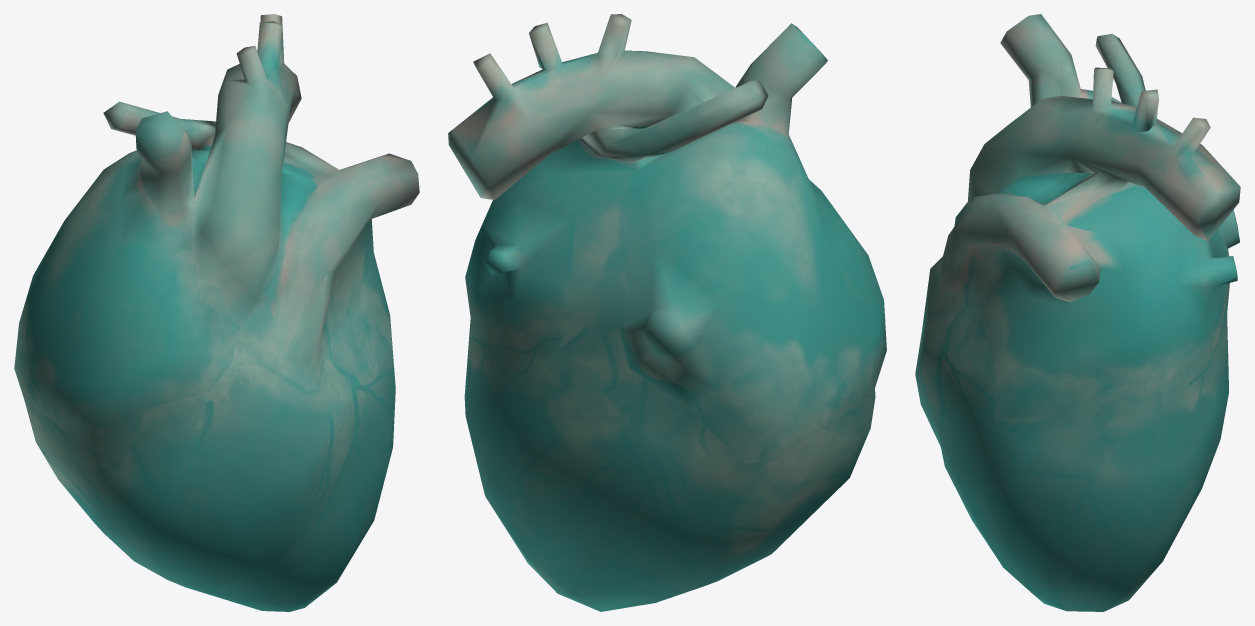
The model's file is TeleportCrystal and Heart.fbx.
3 renders of one model, left to right at view 1: azimuth 30°, elevation 25°; view 2: azimuth 150°, elevation 25°; view 3: azimuth 270°, elevation 25°, orthographic. The views are drawn at different scales.
Visible parts, largest first — view 1: hart:ZBrush_defualt_group; view 2: hart:ZBrush_defualt_group; view 3: hart:ZBrush_defualt_group.
Boxes of the visible parts, <box> form: hart:ZBrush_defualt_group: <box>14,14,419,611</box>; hart:ZBrush_defualt_group: <box>448,14,886,611</box>; hart:ZBrush_defualt_group: <box>915,14,1240,611</box>.
Bounding box in the file's own units: 621 × 922 × 509.
